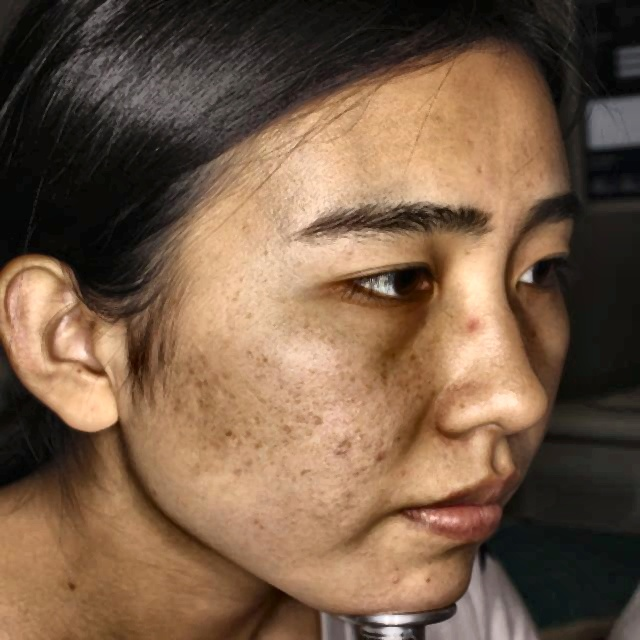comedone: (459, 316, 492, 350)
